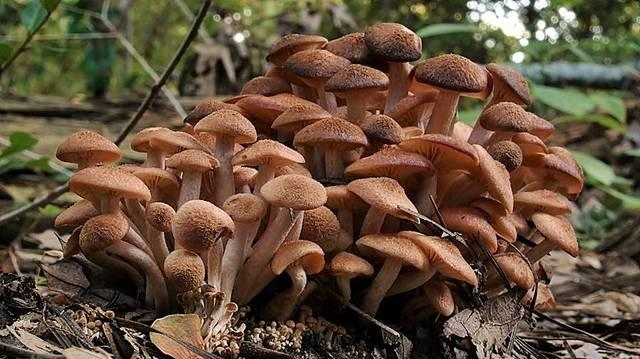edible_mushroom: (53, 20, 584, 338)
